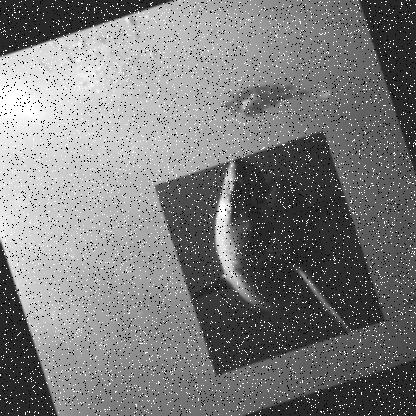white-shark: (154, 130, 386, 376)
